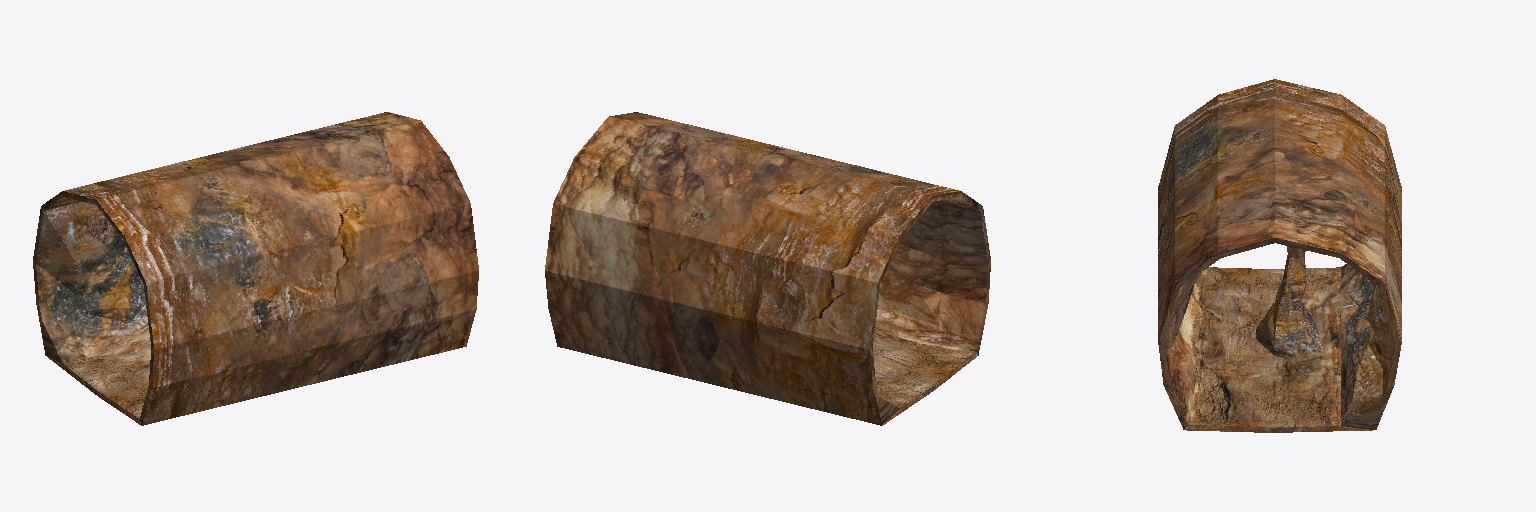
The picture shows the model from 3 angles: view 1: azimuth 30°, elevation 25°; view 2: azimuth 150°, elevation 25°; view 3: azimuth 270°, elevation 25°; orthographic projection.
Visible parts, largest first — view 1: CaveCorridor1; view 2: CaveCorridor1; view 3: CaveCorridor1.
Part boxes in pixels (left/top/right/bottom): CaveCorridor1: left=33, top=112, right=478, bottom=425; CaveCorridor1: left=545, top=112, right=990, bottom=425; CaveCorridor1: left=1158, top=79, right=1401, bottom=432.
Size of the model in its own units: 158 by 90.67 by 102.
Materials: 1 (1 with a texture image).